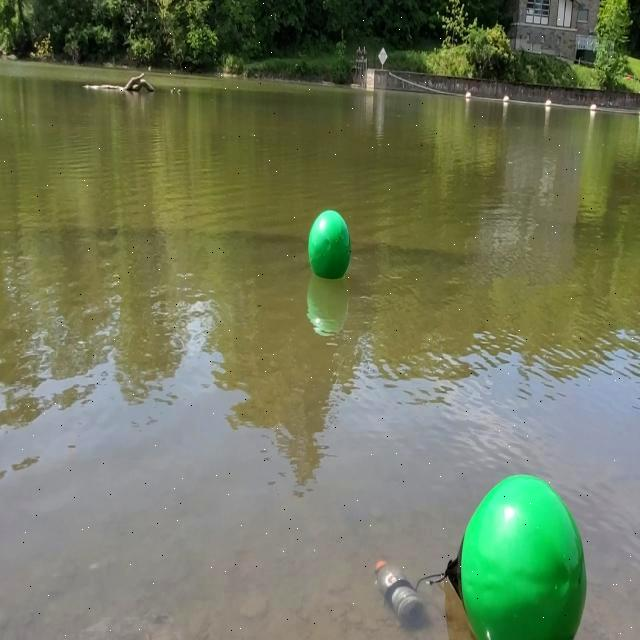buoy: (444, 470, 587, 640), (307, 207, 353, 282)
